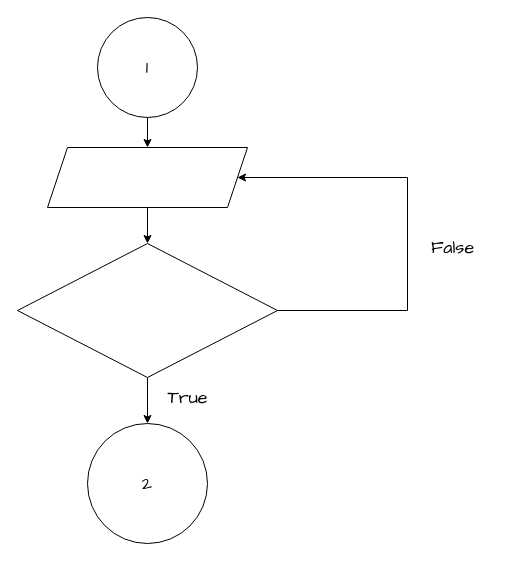
Image size: 505x561. Some labels were removed from this diagram. The box of each missing label's shape, as (x1, y1, x2, y2) in pixels:
Input Name, Age, Weight, Height, Gender: (46, 146, 248, 208)
is Name, Age, Weight, Height, Gender valid data_type ?: (16, 242, 278, 378)
